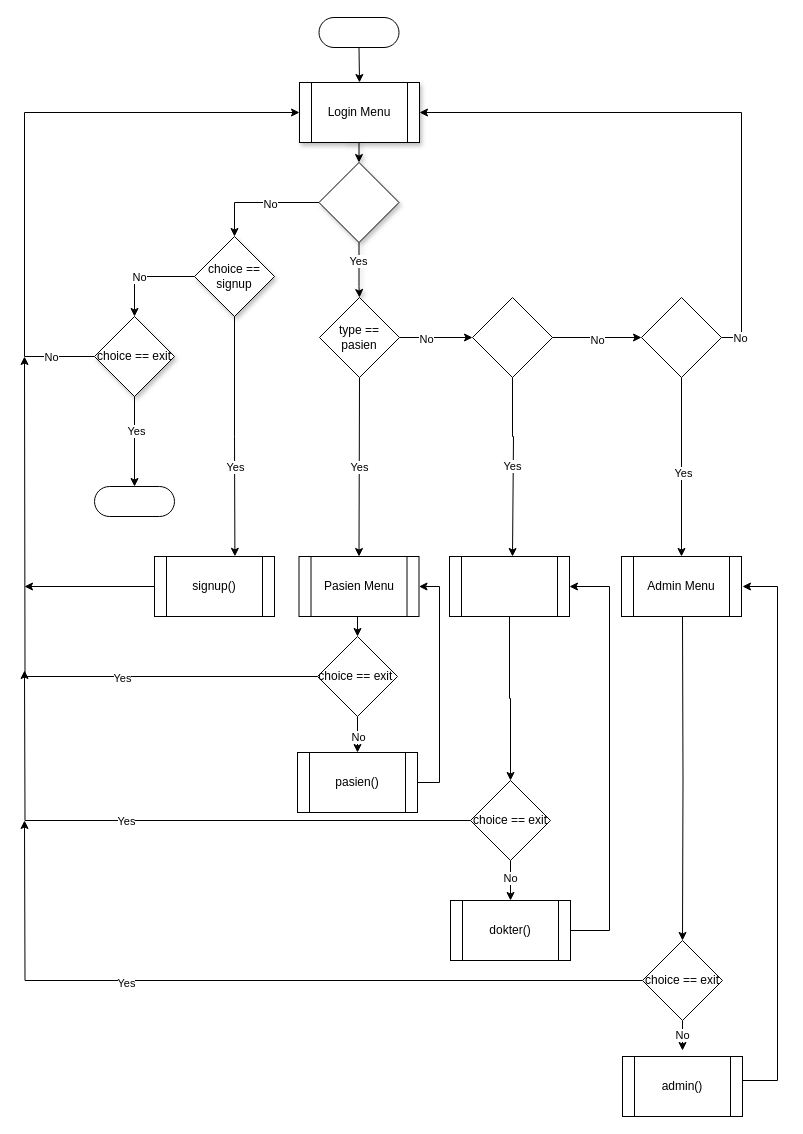
Some shapes in this 803 by 1134 pixel diagram are drawn without their labels. The centre of each missing label's shape, as x and y in pixels:
choice == login: the point at 359,204
Dokter Menu: the point at 509,586
End: the point at 134,501
Start: the point at 358,32
type == admin: the point at 681,337
type == dokter: the point at 512,337
